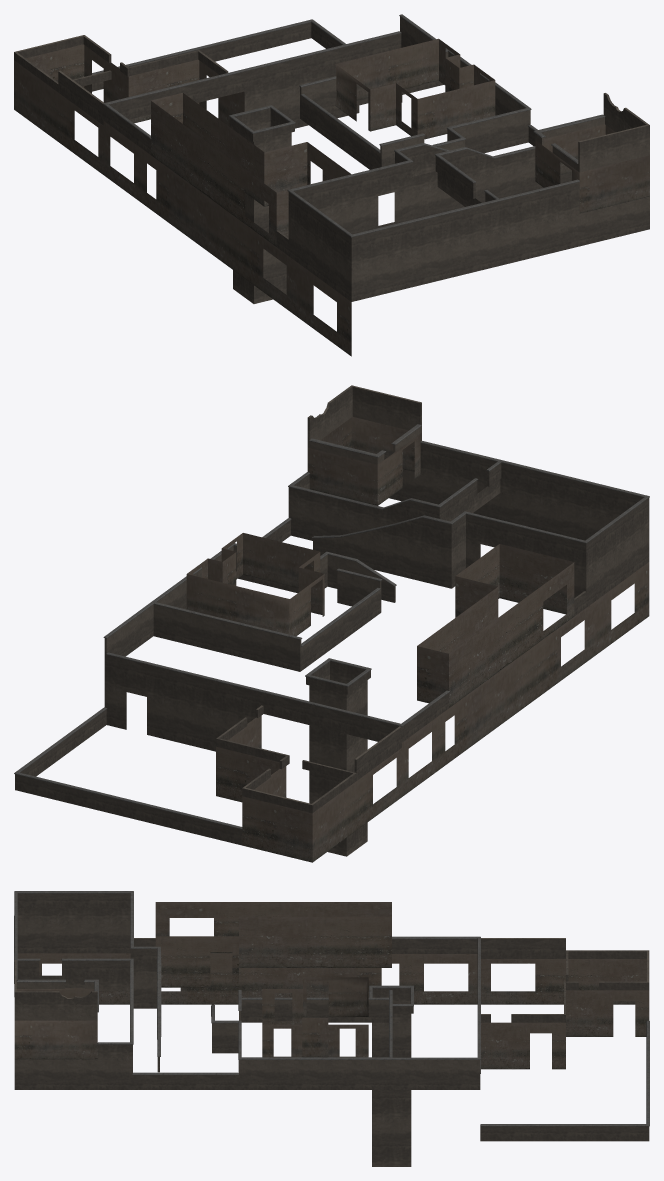
The model's file is RoofExterior_Walls.FBX.
3 views of the same model, one above another, from view 1: azimuth 30°, elevation 25°; view 2: azimuth 150°, elevation 25°; view 3: azimuth 270°, elevation 25° (orthographic). The views are drawn at different scales.
Visible parts, largest first — view 1: RoofExterior_Walls; view 2: RoofExterior_Walls; view 3: RoofExterior_Walls.
Boxes of the visible parts, x1,y1,x2,y2 form: RoofExterior_Walls: [14, 14, 649, 356]; RoofExterior_Walls: [14, 385, 649, 862]; RoofExterior_Walls: [14, 891, 649, 1166].
Size of the model in its own units: 1839 by 1570 by 3593.
Materials: 4 (4 with a texture image).
